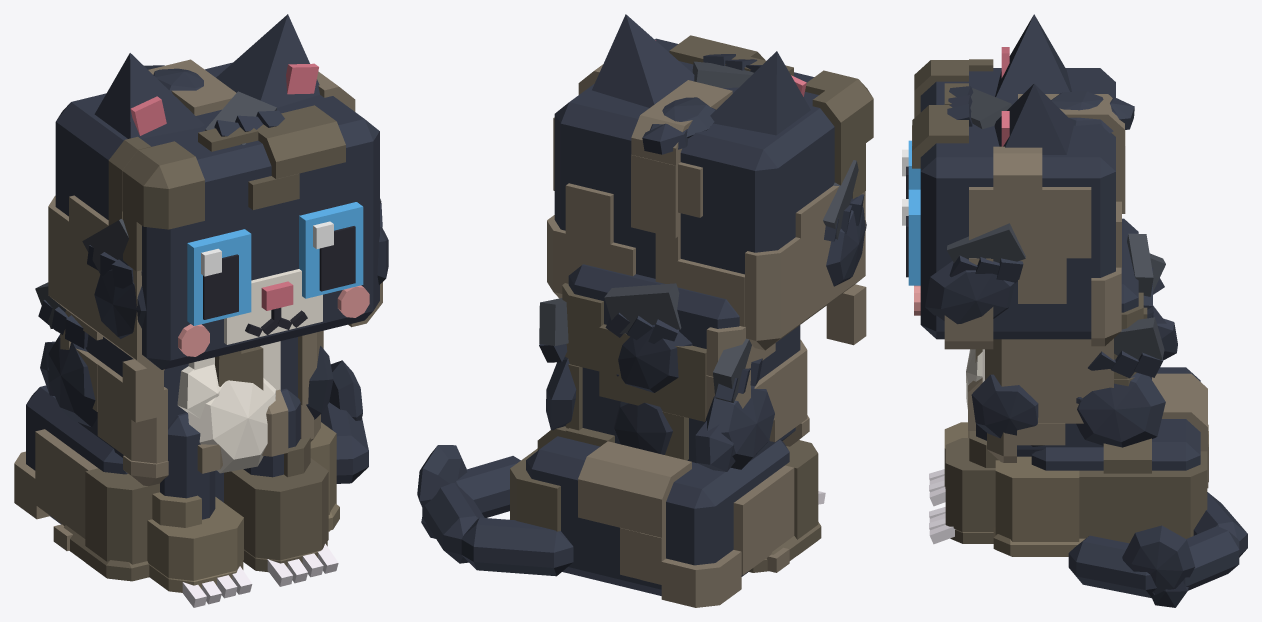
The model's file is CleanACat_Cat_Suds_Dirty_Sit.fbx.
The picture shows the model from 3 angles, left to right: view 1: azimuth 30°, elevation 25°; view 2: azimuth 150°, elevation 25°; view 3: azimuth 270°, elevation 25°; orthographic projection. The views are drawn at different scales.
Parts seen in each view (by area): view 1: CleanACat_Cat_Suds_Dirty_Sit_Head, CleanACat_Cat_Suds_Dirty_Sit_Mud17, CleanACat_Cat_Suds_Dirty_Sit_Mud01, CleanACat_Cat_Suds_Dirty_Sit_Mud06, CleanACat_Cat_Suds_Dirty_Sit_Mud18, CleanACat_Cat_Suds_Dirty_Sit_Body, CleanACat_Cat_Suds_Dirty_Sit_Mud16, CleanACat_Cat_Suds_Dirty_Sit_Mud03, CleanACat_Cat_Suds_Dirty_Sit_Fluff04, CleanACat_Cat_Suds_Dirty_Sit_Mud14, CleanACat_Cat_Suds_Dirty_Sit_Eye2, CleanACat_Cat_Suds_Dirty_Sit_Eye1 (+22 smaller); view 2: CleanACat_Cat_Suds_Dirty_Sit_Head, CleanACat_Cat_Suds_Dirty_Sit_Body, CleanACat_Cat_Suds_Dirty_Sit_Mud01, CleanACat_Cat_Suds_Dirty_Sit_Tail, CleanACat_Cat_Suds_Dirty_Sit_Mud13, CleanACat_Cat_Suds_Dirty_Sit_Mud09, CleanACat_Cat_Suds_Dirty_Sit_Mud04, CleanACat_Cat_Suds_Dirty_Sit_Mud14, CleanACat_Cat_Suds_Dirty_Sit_Mud05, CleanACat_Cat_Suds_Dirty_Sit_EarL, CleanACat_Cat_Suds_Dirty_Sit_Mud06, CleanACat_Cat_Suds_Dirty_Sit_EarR (+17 smaller); view 3: CleanACat_Cat_Suds_Dirty_Sit_Head, CleanACat_Cat_Suds_Dirty_Sit_Mud02, CleanACat_Cat_Suds_Dirty_Sit_Mud12, CleanACat_Cat_Suds_Dirty_Sit_Mud08, CleanACat_Cat_Suds_Dirty_Sit_Mud15, CleanACat_Cat_Suds_Dirty_Sit_Tail, CleanACat_Cat_Suds_Dirty_Sit_Body, CleanACat_Cat_Suds_Dirty_Sit_Mud17, CleanACat_Cat_Suds_Dirty_Sit_Fluff05, CleanACat_Cat_Suds_Dirty_Sit_Fluff01, CleanACat_Cat_Suds_Dirty_Sit_Fluff09, CleanACat_Cat_Suds_Dirty_Sit_EarR (+18 smaller).
Part boxes in pixels (box(x1,y1,x2,y2)): CleanACat_Cat_Suds_Dirty_Sit_Head: box(55, 62, 379, 369); CleanACat_Cat_Suds_Dirty_Sit_Mud17: box(224, 437, 328, 572); CleanACat_Cat_Suds_Dirty_Sit_Mud01: box(48, 195, 164, 422); CleanACat_Cat_Suds_Dirty_Sit_Mud06: box(108, 136, 204, 271); CleanACat_Cat_Suds_Dirty_Sit_Mud18: box(147, 492, 243, 592); CleanACat_Cat_Suds_Dirty_Sit_Body: box(26, 334, 297, 524); CleanACat_Cat_Suds_Dirty_Sit_Mud16: box(64, 468, 159, 581); CleanACat_Cat_Suds_Dirty_Sit_Mud03: box(198, 105, 345, 209); CleanACat_Cat_Suds_Dirty_Sit_Fluff04: box(177, 364, 275, 473); CleanACat_Cat_Suds_Dirty_Sit_Mud14: box(14, 429, 97, 550); CleanACat_Cat_Suds_Dirty_Sit_Eye2: box(187, 229, 251, 325); CleanACat_Cat_Suds_Dirty_Sit_Eye1: box(299, 202, 363, 298); CleanACat_Cat_Suds_Dirty_Sit_Head: box(554, 38, 834, 278); CleanACat_Cat_Suds_Dirty_Sit_Body: box(526, 264, 800, 595); CleanACat_Cat_Suds_Dirty_Sit_Mud01: box(677, 185, 866, 350); CleanACat_Cat_Suds_Dirty_Sit_Tail: box(422, 456, 573, 576); CleanACat_Cat_Suds_Dirty_Sit_Mud13: box(578, 441, 691, 584); CleanACat_Cat_Suds_Dirty_Sit_Mud09: box(562, 283, 706, 460); CleanACat_Cat_Suds_Dirty_Sit_Mud04: box(631, 80, 732, 286); CleanACat_Cat_Suds_Dirty_Sit_Mud14: box(661, 465, 794, 607); CleanACat_Cat_Suds_Dirty_Sit_Mud05: box(547, 183, 635, 298); CleanACat_Cat_Suds_Dirty_Sit_EarL: box(592, 14, 694, 107); CleanACat_Cat_Suds_Dirty_Sit_Mud06: box(805, 70, 873, 198); CleanACat_Cat_Suds_Dirty_Sit_EarR: box(710, 51, 810, 135); CleanACat_Cat_Suds_Dirty_Sit_Head: box(914, 68, 1115, 339); CleanACat_Cat_Suds_Dirty_Sit_Mud02: box(944, 146, 1091, 349); CleanACat_Cat_Suds_Dirty_Sit_Mud12: box(1079, 438, 1207, 543); CleanACat_Cat_Suds_Dirty_Sit_Mud08: box(985, 338, 1113, 462); CleanACat_Cat_Suds_Dirty_Sit_Mud15: box(993, 456, 1085, 556); CleanACat_Cat_Suds_Dirty_Sit_Tail: box(1068, 492, 1247, 598); CleanACat_Cat_Suds_Dirty_Sit_Body: box(982, 218, 1200, 470); CleanACat_Cat_Suds_Dirty_Sit_Mud17: box(945, 431, 998, 543); CleanACat_Cat_Suds_Dirty_Sit_Fluff05: box(1076, 372, 1165, 447); CleanACat_Cat_Suds_Dirty_Sit_Fluff01: box(925, 261, 1016, 324); CleanACat_Cat_Suds_Dirty_Sit_Fluff09: box(1122, 525, 1194, 607); CleanACat_Cat_Suds_Dirty_Sit_EarR: box(995, 14, 1071, 99).
Bounding box in the file's own units: 1.3 × 1.86 × 1.24.
Materials: 1 (1 with a texture image).
